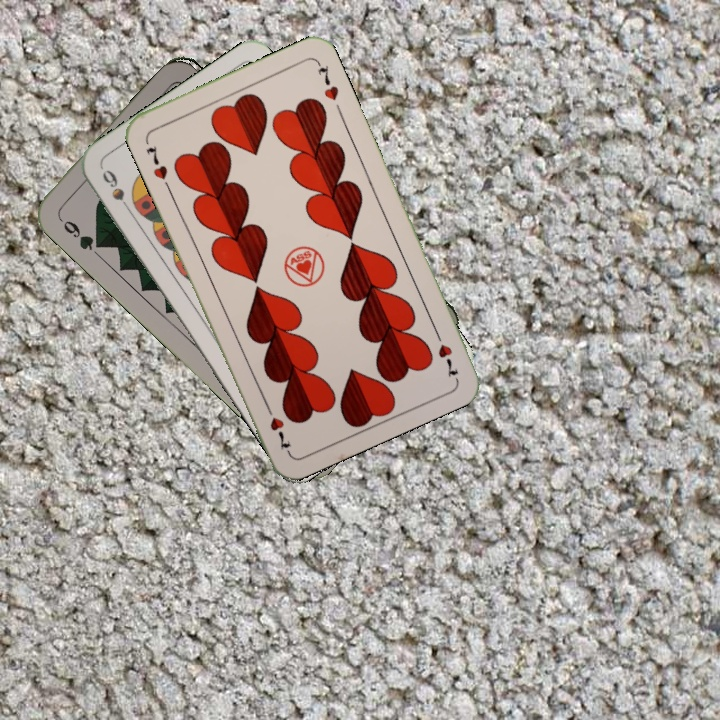G9: (54, 212, 107, 254)
H7: (430, 325, 461, 381), (142, 141, 170, 182)
S9: (97, 165, 136, 218)
